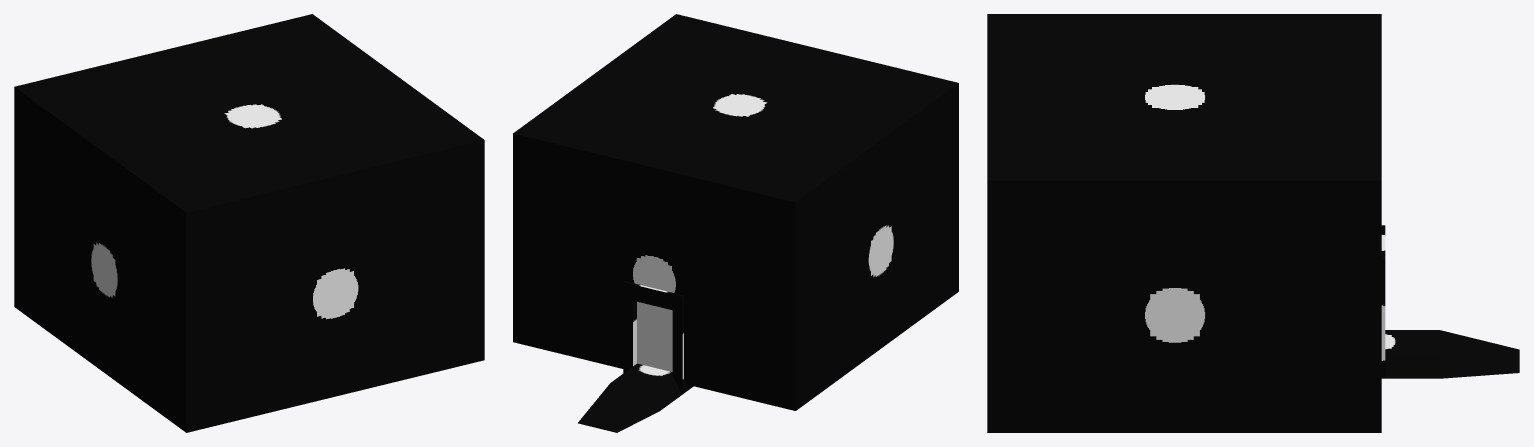
The model's file is square_house.fbx.
The picture shows the model from 3 angles, left to right: view 1: azimuth 30°, elevation 25°; view 2: azimuth 150°, elevation 25°; view 3: azimuth 270°, elevation 25°; orthographic projection. The views are drawn at different scales.
Visible parts, largest first — view 1: oSquareHouse; view 2: oSquareHouse, dSquareHouse, SquareHouseVol; view 3: oSquareHouse, dSquareHouse.
Boxes of the visible parts, x1=… form: oSquareHouse: x1=14, y1=14, x2=484, y2=432; oSquareHouse: x1=513, y1=14, x2=958, y2=410; dSquareHouse: x1=578, y1=281, x2=693, y2=432; SquareHouseVol: x1=637, y1=301, x2=672, y2=371; oSquareHouse: x1=987, y1=14, x2=1381, y2=432; dSquareHouse: x1=1381, y1=225, x2=1519, y2=378.
Bounding box in the file's own units: 12.15 × 16.41 × 8.97.
